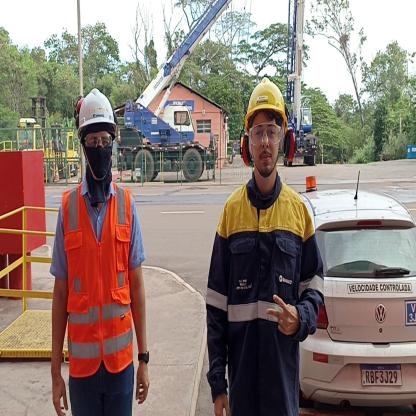Balaclava: (75, 129, 120, 197)
C_eletrica: (208, 180, 324, 386)
Capacete: (242, 73, 291, 118), (73, 83, 117, 130)
colete: (61, 178, 138, 372)
